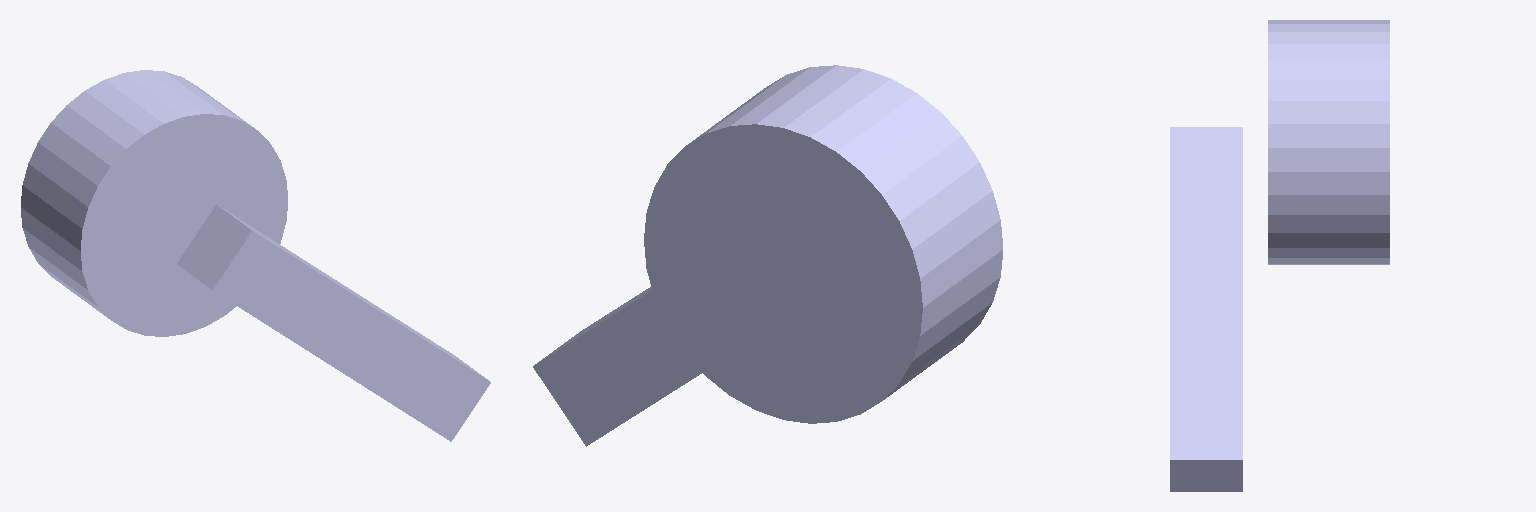
URDF robot description (Cylinder):
<?xml version="1.0"?>
<robot name="Cylinder">
    <link name="robot_base">
        <inertial>
            <origin rpy="-1.570796 3.141593 -3.141593" xyz="0.000000 0.000000 0.225000" />
            <inertia izz="0.00049087385212344" iyy="0.00032724923474896" ixx="0.00032724923474896"
                ixy="0.0" ixz="0.0" iyz="0.0" />
            <mass value="0.39269908169875" />
        </inertial>
        <collision name="Cylinder">
            <origin xyz="0.000000 0.000000 0.225000" rpy="-1.570796 3.141593 -3.141593" />
            <geometry>
                <cylinder length="0.05" radius="0.05" />
            </geometry>
        </collision>
        <visual name="Cylinder">
            <origin xyz="0.000000 0.000000 0.225000" rpy="-1.570796 3.141593 -3.141593" />
            <geometry>
                <cylinder length="0.05" radius="0.05" />
            </geometry>
            <material name="robot_base_material">
                <color rgba="0.850000 0.850000 1.000000 1.0" />
            </material>
        </visual>
    </link>
    <joint name="Revolute_joint" type="continuous">
        <axis xyz="0 0 1" />
        <parent link="robot_base" />
        <child link="Cuboid" />
        <origin xyz="0.000000 0.000000 0.225000" rpy="-1.570796 4.014257 3.141593" />
    </joint>
    <link name="Cuboid">
        <inertial>
            <origin rpy="1.570796 3.141593 3.141593" xyz="0.000000 -0.075000 0.050000" />
            <inertia izz="0.0002725" iyy="0.0005" ixx="0.0002725" ixy="0.0" ixz="0.0" iyz="0.0" />
            <mass value="0.3" />
        </inertial>
        <collision name="Cuboid">
            <origin xyz="0.000000 -0.075000 0.050000" rpy="1.570796 3.141593 3.141593" />
            <geometry>
                <box size="0.030000 0.030000 0.150000" />
            </geometry>
        </collision>
        <visual name="Cuboid">
            <origin xyz="0.000000 -0.075000 0.050000" rpy="1.570796 3.141593 3.141593" />
            <geometry>
                <box size="0.030000 0.030000 0.150000" />
            </geometry>
            <material name="Cuboid_material">
                <color rgba="0.850000 0.850000 1.000000 1.0" />
            </material>
        </visual>
    </link>
</robot>

--- Facts derived from the render (not from the file) ---
The picture shows the robot from 3 angles, left to right: view 1: azimuth 30°, elevation 25°; view 2: azimuth 150°, elevation 25°; view 3: azimuth 270°, elevation 25°; orthographic projection.
Robot: Cylinder — 2 links, 1 joints (1 continuous); root link robot_base; default pose: all joints at 0.
Links seen in each view (by area): view 1: robot_base, Cuboid; view 2: robot_base, Cuboid; view 3: robot_base, Cuboid.
Link boxes in pixels (x1,y1,x2,y2): robot_base: [21, 70, 287, 336]; Cuboid: [177, 204, 490, 441]; robot_base: [644, 65, 1002, 423]; Cuboid: [533, 287, 701, 446]; robot_base: [1268, 20, 1389, 264]; Cuboid: [1170, 127, 1242, 491].
Size in the robot's own frame: 0.1745 by 0.09 by 0.1579 metres.
Geometry: primitives only (box / cylinder / sphere), no mesh files.